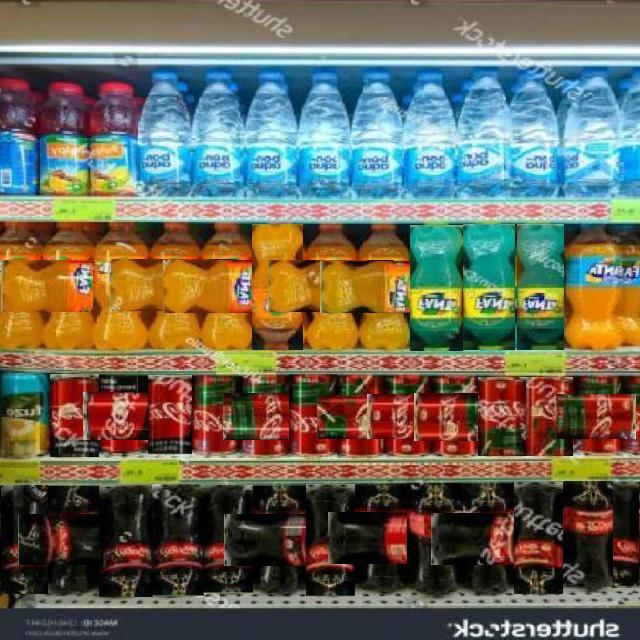Drinks: (93, 221, 148, 351), (565, 224, 620, 351), (409, 224, 463, 351), (1, 260, 130, 312), (163, 260, 289, 313), (267, 260, 394, 312), (319, 261, 446, 313), (463, 223, 515, 350), (252, 223, 303, 350), (111, 260, 237, 311), (98, 485, 153, 597), (516, 223, 564, 350), (408, 483, 461, 596), (151, 484, 204, 596), (223, 514, 336, 566), (431, 513, 543, 565), (18, 513, 128, 565), (327, 512, 436, 564), (513, 482, 563, 594), (306, 484, 355, 596), (203, 484, 253, 593), (0, 485, 48, 594), (564, 482, 612, 590), (49, 374, 99, 457), (289, 375, 337, 458), (223, 393, 307, 440), (413, 393, 495, 441), (83, 392, 164, 440), (478, 376, 526, 456), (525, 376, 573, 456), (318, 394, 401, 439), (192, 376, 239, 455), (367, 395, 448, 439), (557, 394, 636, 439), (148, 374, 192, 454), (612, 482, 640, 586)
